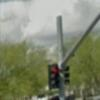traffic lights: (46, 62, 60, 90), (63, 65, 70, 86)
